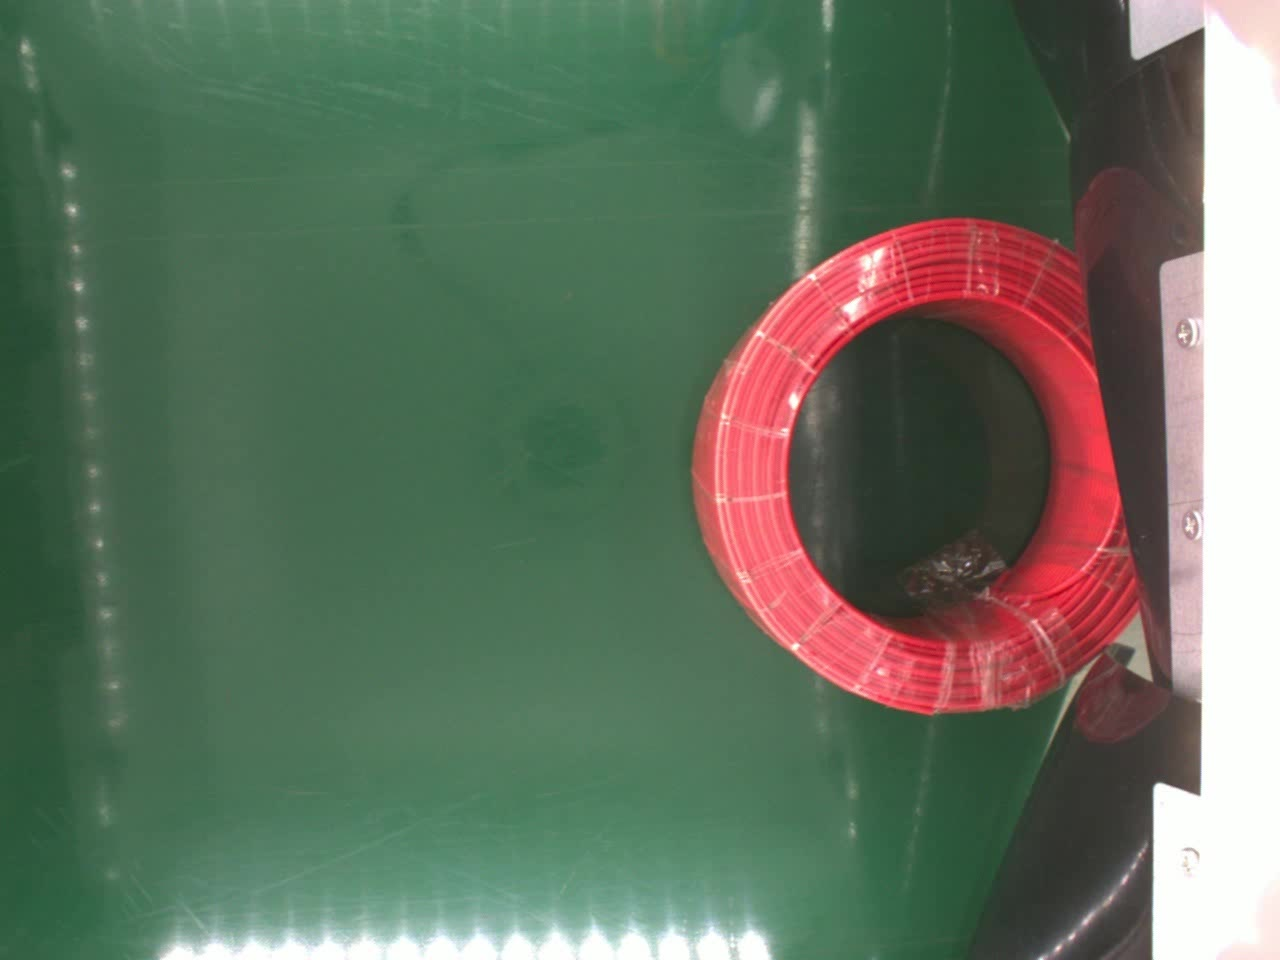red: (690, 213, 1141, 716)
